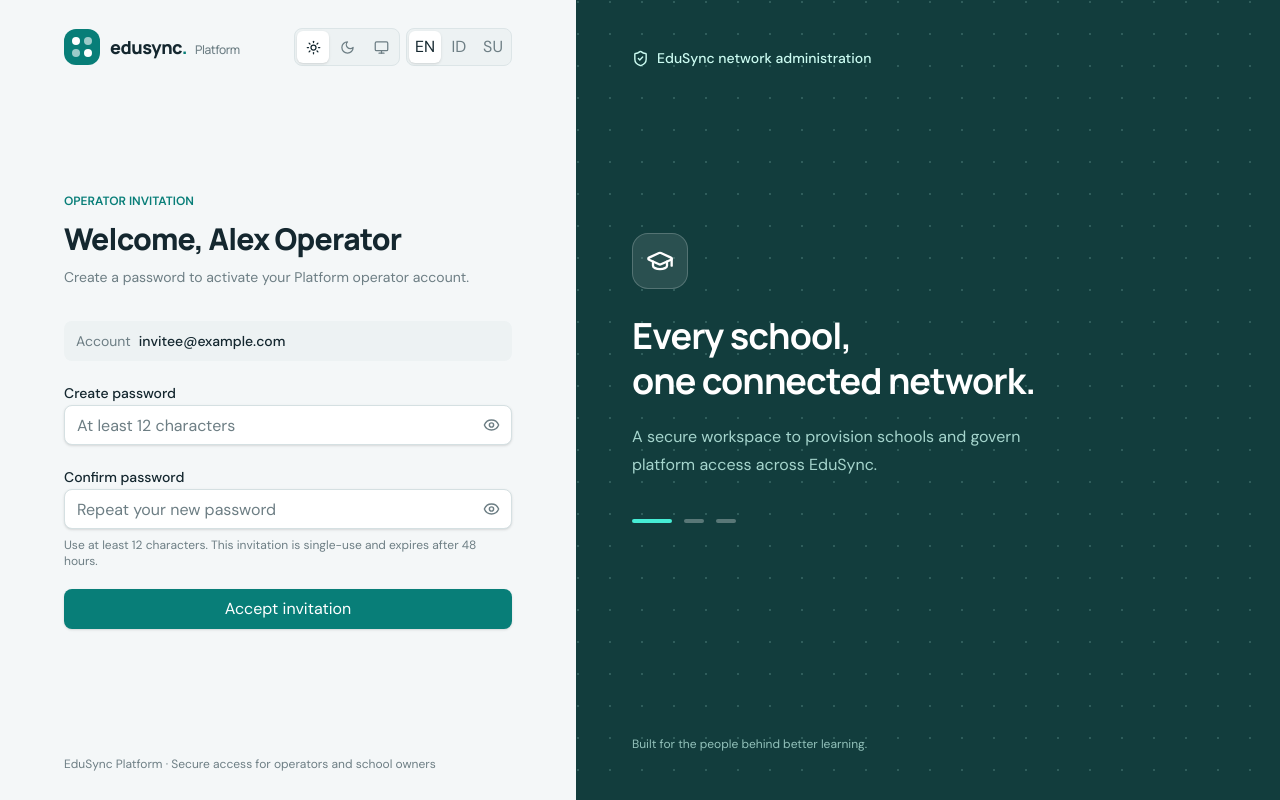
Test: Public account flows › accepts a valid operator invitation and displays the account email
Expected: the text "invitee@example.com" is shown, [139, 332, 285, 350]
Type "valid-password-123" into the password field labelled "Create password" at [288, 425], box [64, 405, 512, 445]
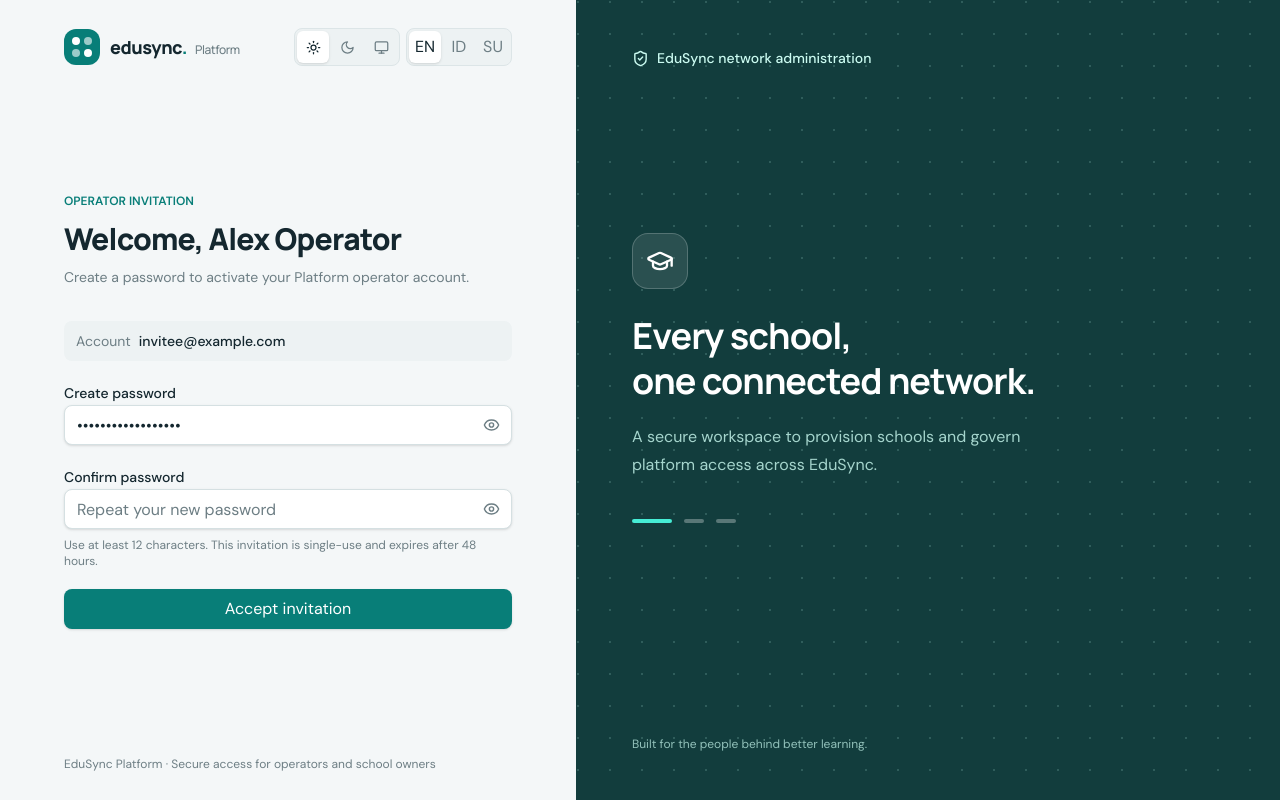
Type "valid-password-123" into the password field labelled "Confirm password" at [288, 509], box [64, 489, 512, 529]
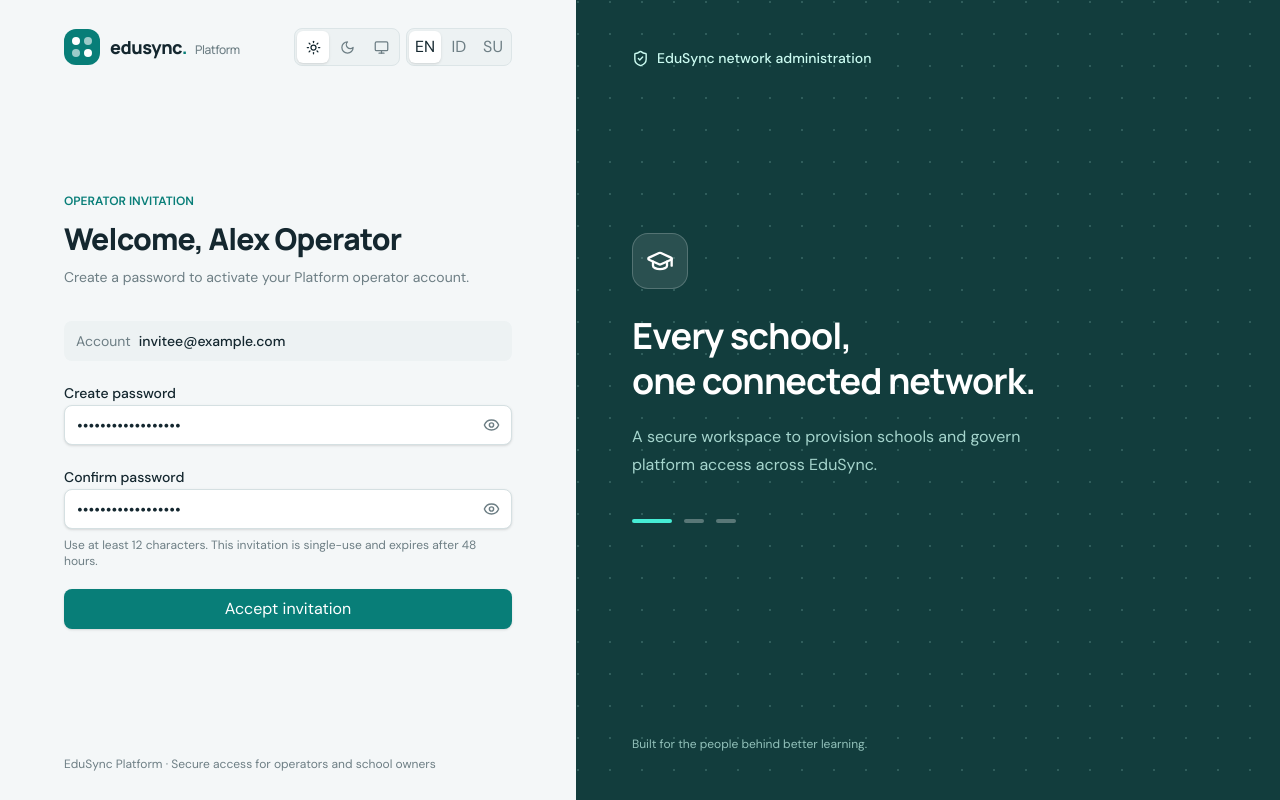
Click the button "Accept invitation" at [288, 609], box [64, 589, 512, 629]
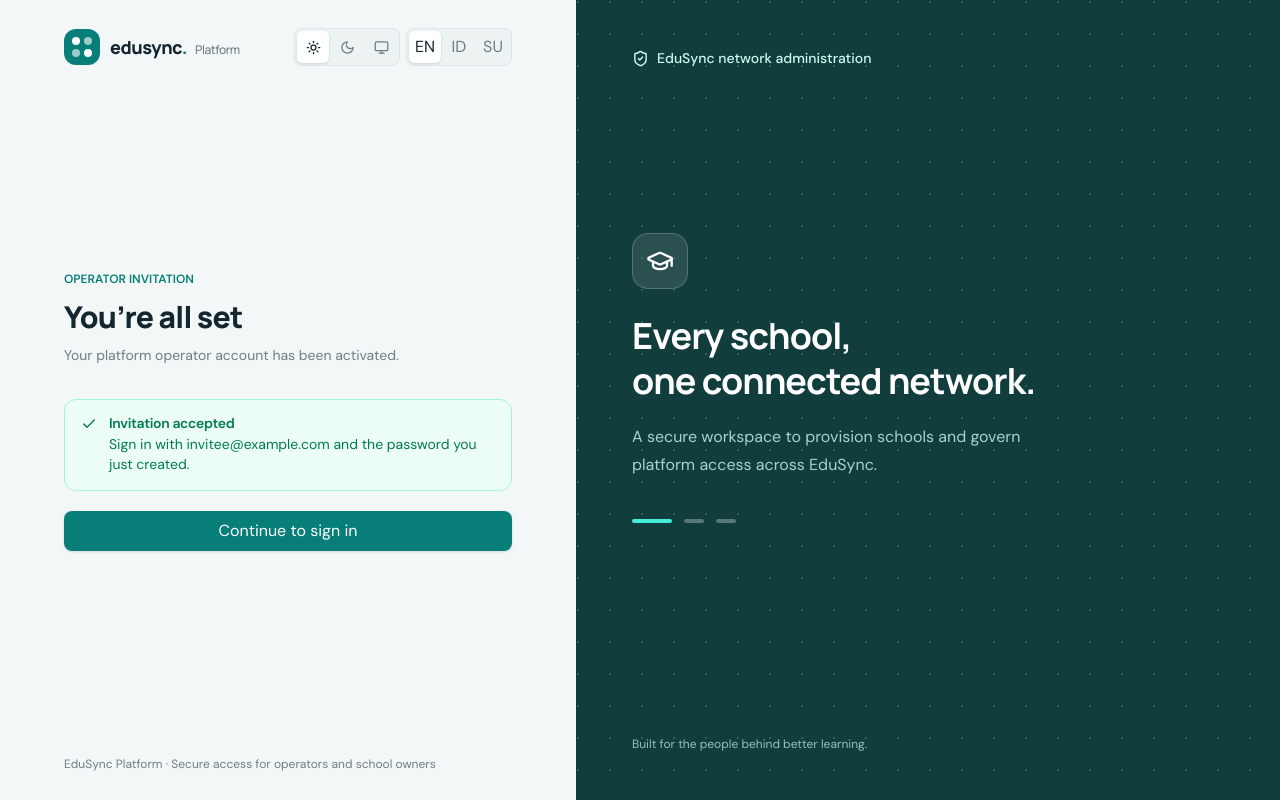
Expected: the heading "Invitation accepted" is shown, [109, 414, 234, 432]
